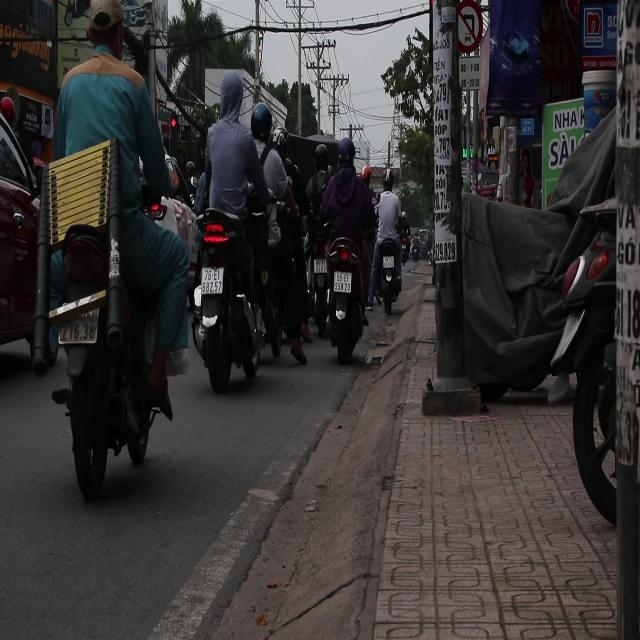car: (476, 174, 498, 200)
motorbike: (50, 216, 175, 499), (188, 207, 268, 390), (322, 232, 368, 366), (379, 234, 398, 320), (409, 234, 422, 263)
